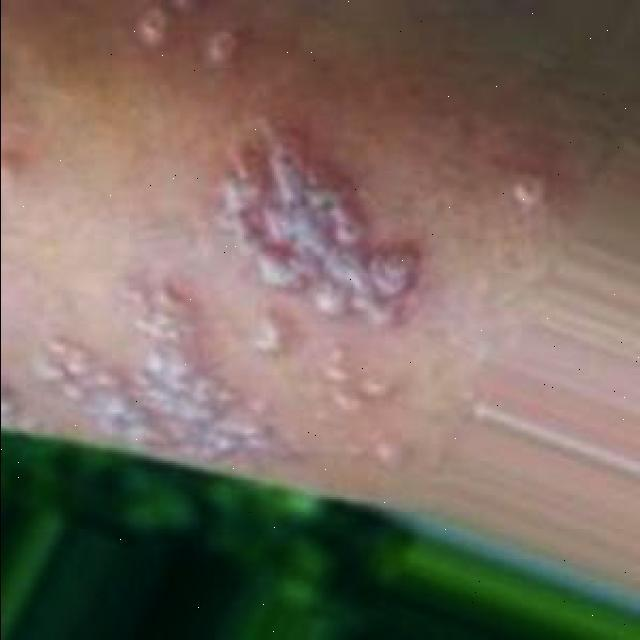Shingles: (22, 278, 296, 480), (208, 114, 420, 354), (323, 348, 415, 476), (135, 0, 246, 66), (512, 171, 546, 209)
